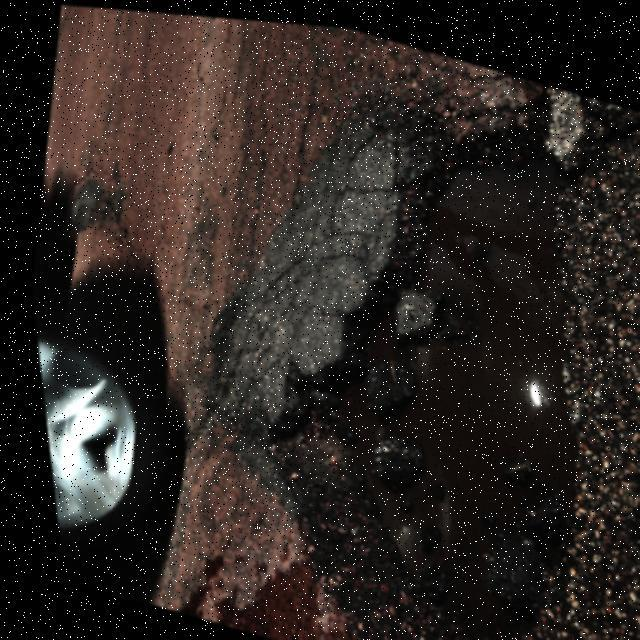pothole: (182, 41, 640, 640)
